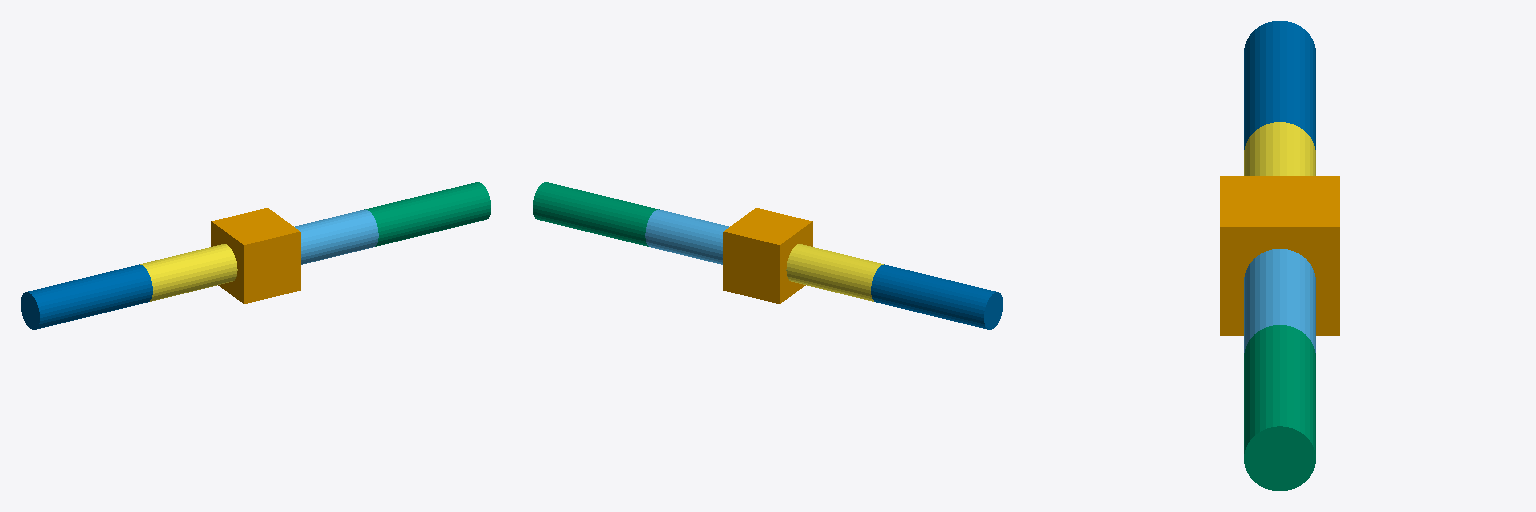
robot.urdf — hybrid_robot:
<?xml version="1.0"?>
<robot name="hybrid_robot">

  <!-- ================= BASE LINK ================= -->
  <link name="base_link">
    <inertial>
      <origin xyz="0 0 0"/>
      <mass value="1.0"/>
      <inertia ixx="0.01" iyy="0.01" izz="0.01"
               ixy="0" ixz="0" iyz="0"/>
    </inertial>

    <visual>
      <geometry>
        <box size="0.1 0.1 0.1"/>
      </geometry>
    </visual>

    <collision>
      <geometry>
        <box size="0.1 0.1 0.1"/>
      </geometry>
    </collision>
  </link>

  <!-- ================= BASE JOINT ================= -->
  <joint name="base_joint" type="revolute">
    <parent link="base_link"/>
    <child link="link1"/>
    <origin xyz="0 0 0"/>
    <axis xyz="0 0 1"/>
    <limit lower="-3.14" upper="3.14" effort="50" velocity="50"/>
  </joint>

  <!-- ================= LINK 1 ================= -->
  <link name="link1">
    <inertial>
      <origin xyz="0 0 0"/>
      <mass value="1.0"/>
      <inertia ixx="0.005" iyy="0.005" izz="0.005"
               ixy="0" ixz="0" iyz="0"/>
    </inertial>

    <visual>
      <origin xyz="0.1 0 0" rpy="0 1.5708 0"/>
      <geometry>
        <cylinder radius="0.03" length="0.2"/>
      </geometry>
    </visual>

    <collision>
      <origin xyz="0.1 0 0" rpy="0 1.5708 0"/>
      <geometry>
        <cylinder radius="0.03" length="0.2"/>
      </geometry>
    </collision>
  </link>

  <!-- ================= JOINT 1 ================= -->
  <joint name="joint1" type="revolute">
    <parent link="link1"/>
    <child link="link2"/>
    <origin xyz="0.2 0 0"/>
    <axis xyz="0 0 1"/>
    <limit lower="-3.14" upper="3.14" effort="50" velocity="50"/>
  </joint>

  <!-- ================= LINK 2 ================= -->
  <link name="link2">
    <inertial>
      <origin xyz="0 0 0"/>
      <mass value="1.0"/>
      <inertia ixx="0.005" iyy="0.005" izz="0.005"
               ixy="0" ixz="0" iyz="0"/>
    </inertial>

    <visual>
      <origin xyz="0.1 0 0" rpy="0 1.5708 0"/>
      <geometry>
        <cylinder radius="0.03" length="0.2"/>
      </geometry>
    </visual>

    <collision>
      <origin xyz="0.1 0 0" rpy="0 1.5708 0"/>
      <geometry>
        <cylinder radius="0.03" length="0.2"/>
      </geometry>
    </collision>
  </link>

  <!-- ================= JOINT 3 ================= -->
  <joint name="joint3" type="revolute">
    <parent link="base_link"/>
    <child link="link3"/>
    <origin xyz="0 0 0"/>
    <axis xyz="0 0 1"/>
    <limit lower="-3.14" upper="3.14" effort="50" velocity="50"/>
  </joint>

  <!-- ================= LINK 3 ================= -->
  <link name="link3">
    <inertial>
      <origin xyz="0 0 0"/>
      <mass value="1.0"/>
      <inertia ixx="0.005" iyy="0.005" izz="0.005"
               ixy="0" ixz="0" iyz="0"/>
    </inertial>

    <visual>
      <origin xyz="-0.1 0 0" rpy="0 -1.5708 0"/>
      <geometry>
        <cylinder radius="0.03" length="0.2"/>
      </geometry>
    </visual>

    <collision>
      <origin xyz="-0.1 0 0" rpy="0 -1.5708 0"/>
      <geometry>
        <cylinder radius="0.03" length="0.2"/>
      </geometry>
    </collision>
  </link>

  <!-- ================= JOINT 4 ================= -->
  <joint name="joint4" type="revolute">
    <parent link="link3"/>
    <child link="link4"/>
    <origin xyz="-0.2 0 0"/>
    <axis xyz="0 0 1"/>
    <limit lower="-3.14" upper="3.14" effort="50" velocity="50"/>
  </joint>

  <!-- ================= LINK 4 ================= -->
  <link name="link4">
    <inertial>
      <origin xyz="0 0 0"/>
      <mass value="1.0"/>
      <inertia ixx="0.005" iyy="0.005" izz="0.005"
               ixy="0" ixz="0" iyz="0"/>
    </inertial>

    <visual>
      <origin xyz="-0.1 0 0" rpy="0 -1.5708 0"/>
      <geometry>
        <cylinder radius="0.03" length="0.2"/>
      </geometry>
    </visual>

    <collision>
      <origin xyz="-0.1 0 0" rpy="0 -1.5708 0"/>
      <geometry>
        <cylinder radius="0.03" length="0.2"/>
      </geometry>
    </collision>
  </link>

  <!-- ================= ACTUATORS ================= -->
  <ros2_control name="HybridSystem" type="system">
    <hardware>
      <plugin>gazebo_ros2_control/GazeboSystem</plugin>
    </hardware>

    <joint name="base_joint">
      <command_interface name="effort"/>
      <state_interface name="position"/>
      <state_interface name="velocity"/>
      <state_interface name="effort"/>
    </joint>

    <joint name="joint1">
      <command_interface name="velocity"/>
      <state_interface name="position"/>
      <state_interface name="velocity"/>
    </joint>

    <joint name="joint2">
      <command_interface name="velocity"/>
      <state_interface name="position"/>
      <state_interface name="velocity"/>
    </joint>

    <joint name="joint3">
      <command_interface name="velocity"/>
      <state_interface name="position"/>
      <state_interface name="velocity"/>
    </joint>

    <joint name="joint4">
      <command_interface name="velocity"/>
      <state_interface name="position"/>
      <state_interface name="velocity"/>
    </joint>
  </ros2_control>

</robot>

--- Facts derived from the render (not from the file) ---
Views: 3 orthographic renders of the robot side by side, from view 1: azimuth 30°, elevation 25°; view 2: azimuth 150°, elevation 25°; view 3: azimuth 270°, elevation 25°.
Model hybrid_robot with 5 links and 4 joints (4 revolute), rooted at base_link, posed every joint at zero.
Links seen in each view (by area): view 1: base_link, link4, link2, link3, link1; view 2: base_link, link4, link2, link3, link1; view 3: base_link, link2, link4, link1, link3.
Link boxes in pixels (<box>): base_link: <box>211,208,300,303</box>; link4: <box>21,264,152,329</box>; link2: <box>364,182,490,246</box>; link3: <box>140,244,237,301</box>; link1: <box>295,209,378,264</box>; base_link: <box>723,208,812,303</box>; link4: <box>871,264,1002,329</box>; link2: <box>533,182,659,246</box>; link3: <box>786,244,883,301</box>; link1: <box>645,209,728,264</box>; base_link: <box>1220,176,1339,335</box>; link2: <box>1244,325,1315,490</box>; link4: <box>1244,21,1315,149</box>; link1: <box>1244,249,1315,352</box>; link3: <box>1244,122,1315,175</box>.
Bounding box of the posed robot: 0.8 × 0.1 × 0.1 m (x, y, z).
Geometry: primitives only (box / cylinder / sphere), no mesh files.
